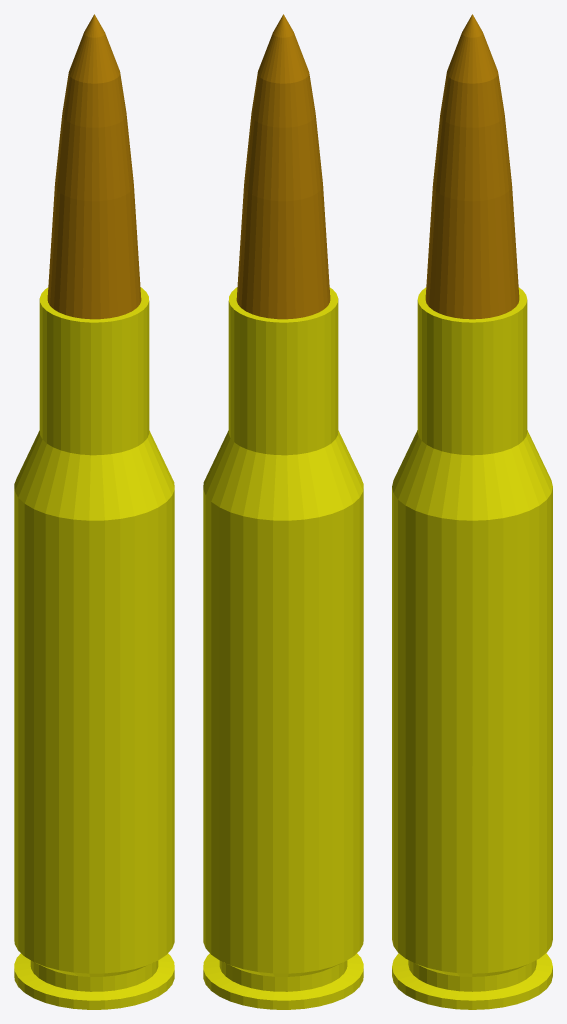
Rendered from bulletlong.fbx.
The picture shows the model from 3 angles, left to right: view 1: azimuth 30°, elevation 25°; view 2: azimuth 150°, elevation 25°; view 3: azimuth 270°, elevation 25°; orthographic projection.
Visible parts, largest first — view 1: Cylinder; view 2: Cylinder; view 3: Cylinder.
Part boxes in pixels (x1,y1,x2,y2): Cylinder: (14,14,174,1009); Cylinder: (203,14,363,1009); Cylinder: (392,14,552,1009).
Bounding box in the file's own units: 17.29 × 114 × 17.29.
